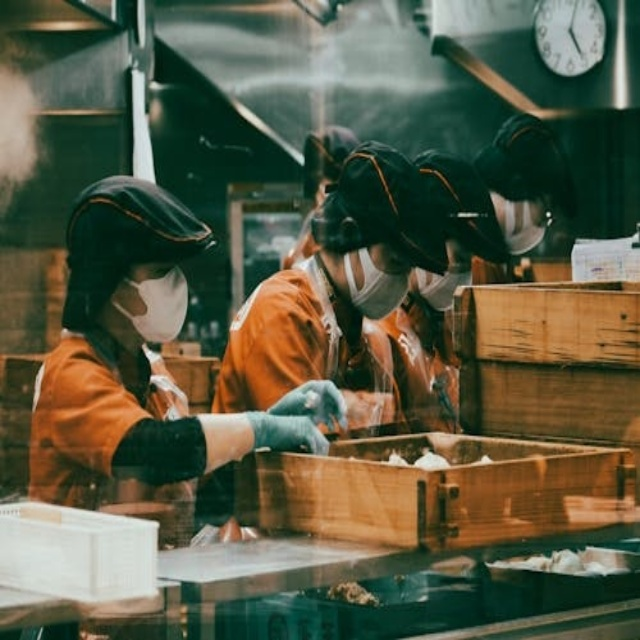Guantes: (246, 402, 334, 460), (267, 379, 347, 430)
Mascara: (111, 266, 191, 345), (343, 242, 413, 321), (410, 257, 469, 312), (499, 194, 547, 255)
Sin_guantes: (566, 1, 586, 56)
